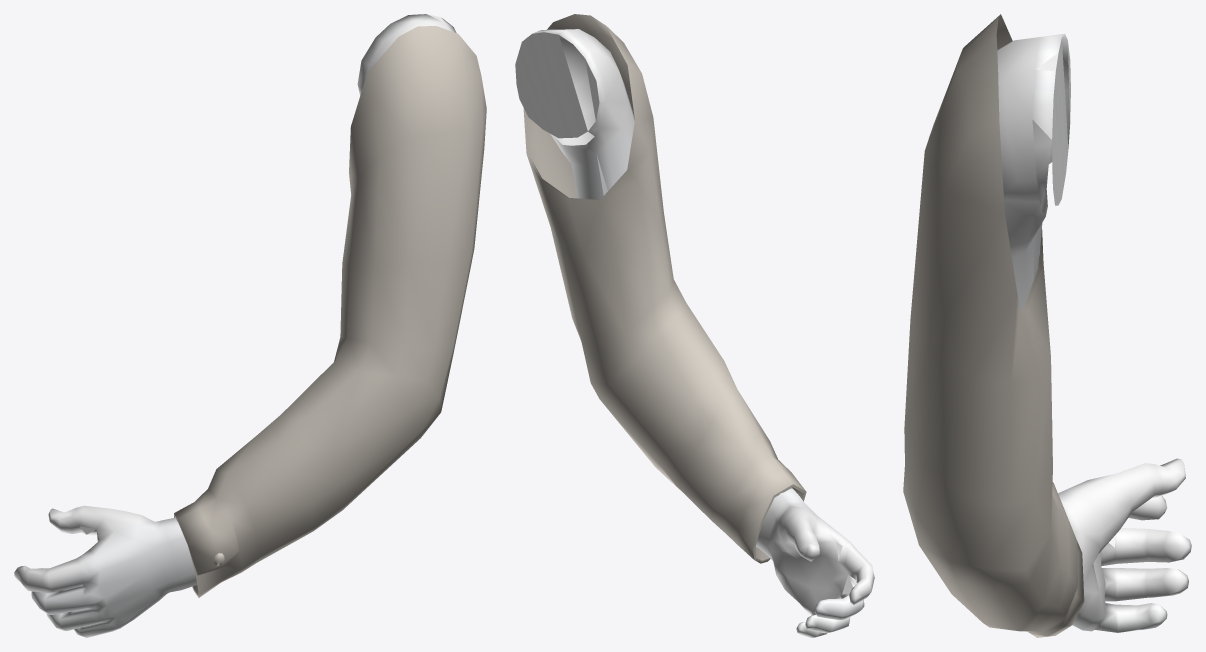
The model's file is BrazoManiqui.obj.
3 views of the same model, side by side, from view 1: azimuth 30°, elevation 25°; view 2: azimuth 150°, elevation 25°; view 3: azimuth 270°, elevation 25° (orthographic). The views are drawn at different scales.
Visible parts, largest first — view 1: BrazoManiqui3:initialShadingGroupMesh19; view 2: BrazoManiqui3:initialShadingGroupMesh19; view 3: BrazoManiqui3:initialShadingGroupMesh19.
Boxes of the visible parts, x1,y1,x2,y2 form: BrazoManiqui3:initialShadingGroupMesh19: (14,14,486,637); BrazoManiqui3:initialShadingGroupMesh19: (515,14,874,637); BrazoManiqui3:initialShadingGroupMesh19: (903,14,1191,637).
Size of the model in its own units: 0.7188 by 0.9288 by 0.2967.
2 materials, 2 textured.
